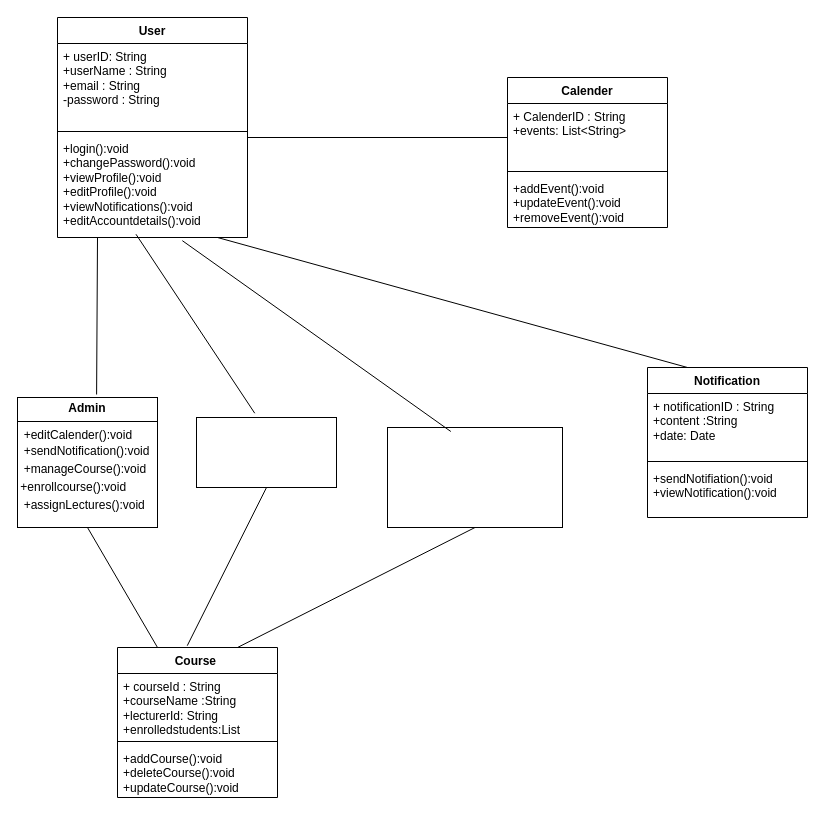
Image size: 825x818. Some labels were removed from this diagram. Here are the shapes that lost their labels. From the top down, the box of each, then its label:
(196, 416, 336, 488): Lecturer +editCalender():void +sendNotification():void
(386, 426, 562, 528): Students +viewCalender():void +viewEnrolmentsDetails():void
